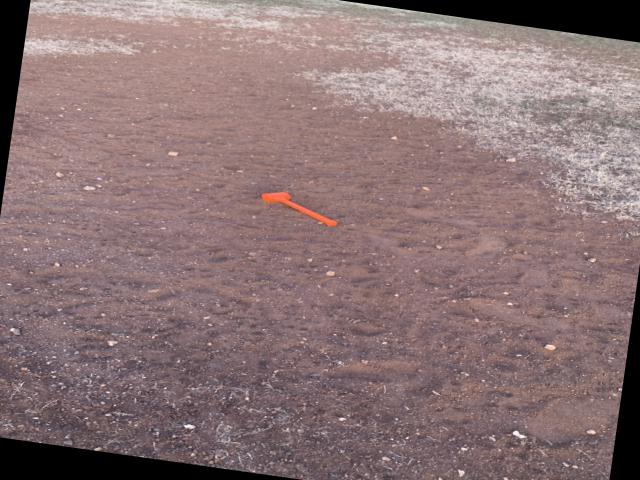hammer: (258, 188, 342, 228)
